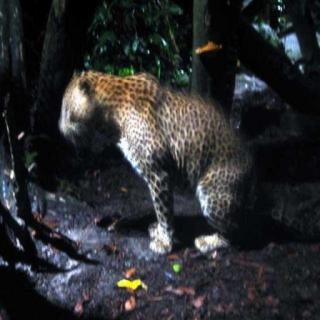Leopard: (43, 65, 256, 275)
